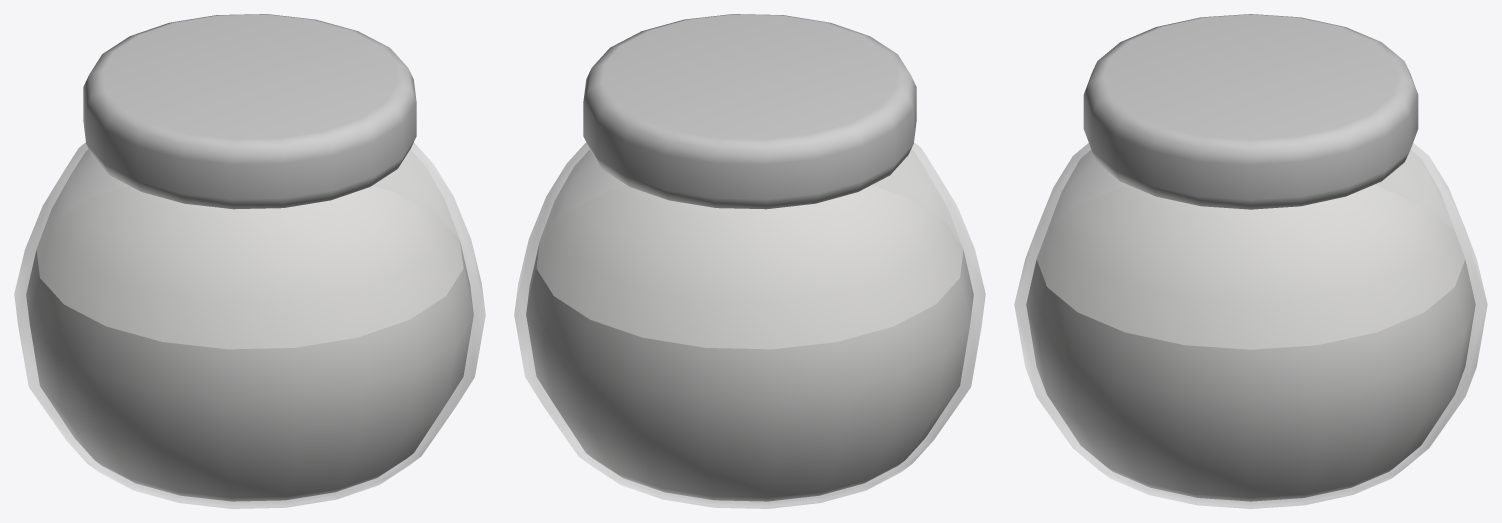
The model's file is Jar_12.fbx.
The picture shows the model from 3 angles, left to right: view 1: azimuth 30°, elevation 25°; view 2: azimuth 150°, elevation 25°; view 3: azimuth 270°, elevation 25°; orthographic projection.
Parts seen in each view (by area): view 1: Jar_12; view 2: Jar_12; view 3: Jar_12.
Boxes of the visible parts, x1,y1,x2,y2 form: Jar_12: [14, 14, 485, 508]; Jar_12: [514, 14, 985, 508]; Jar_12: [1014, 14, 1487, 508].
Bounding box in the file's own units: 21.88 × 18.51 × 21.87.
